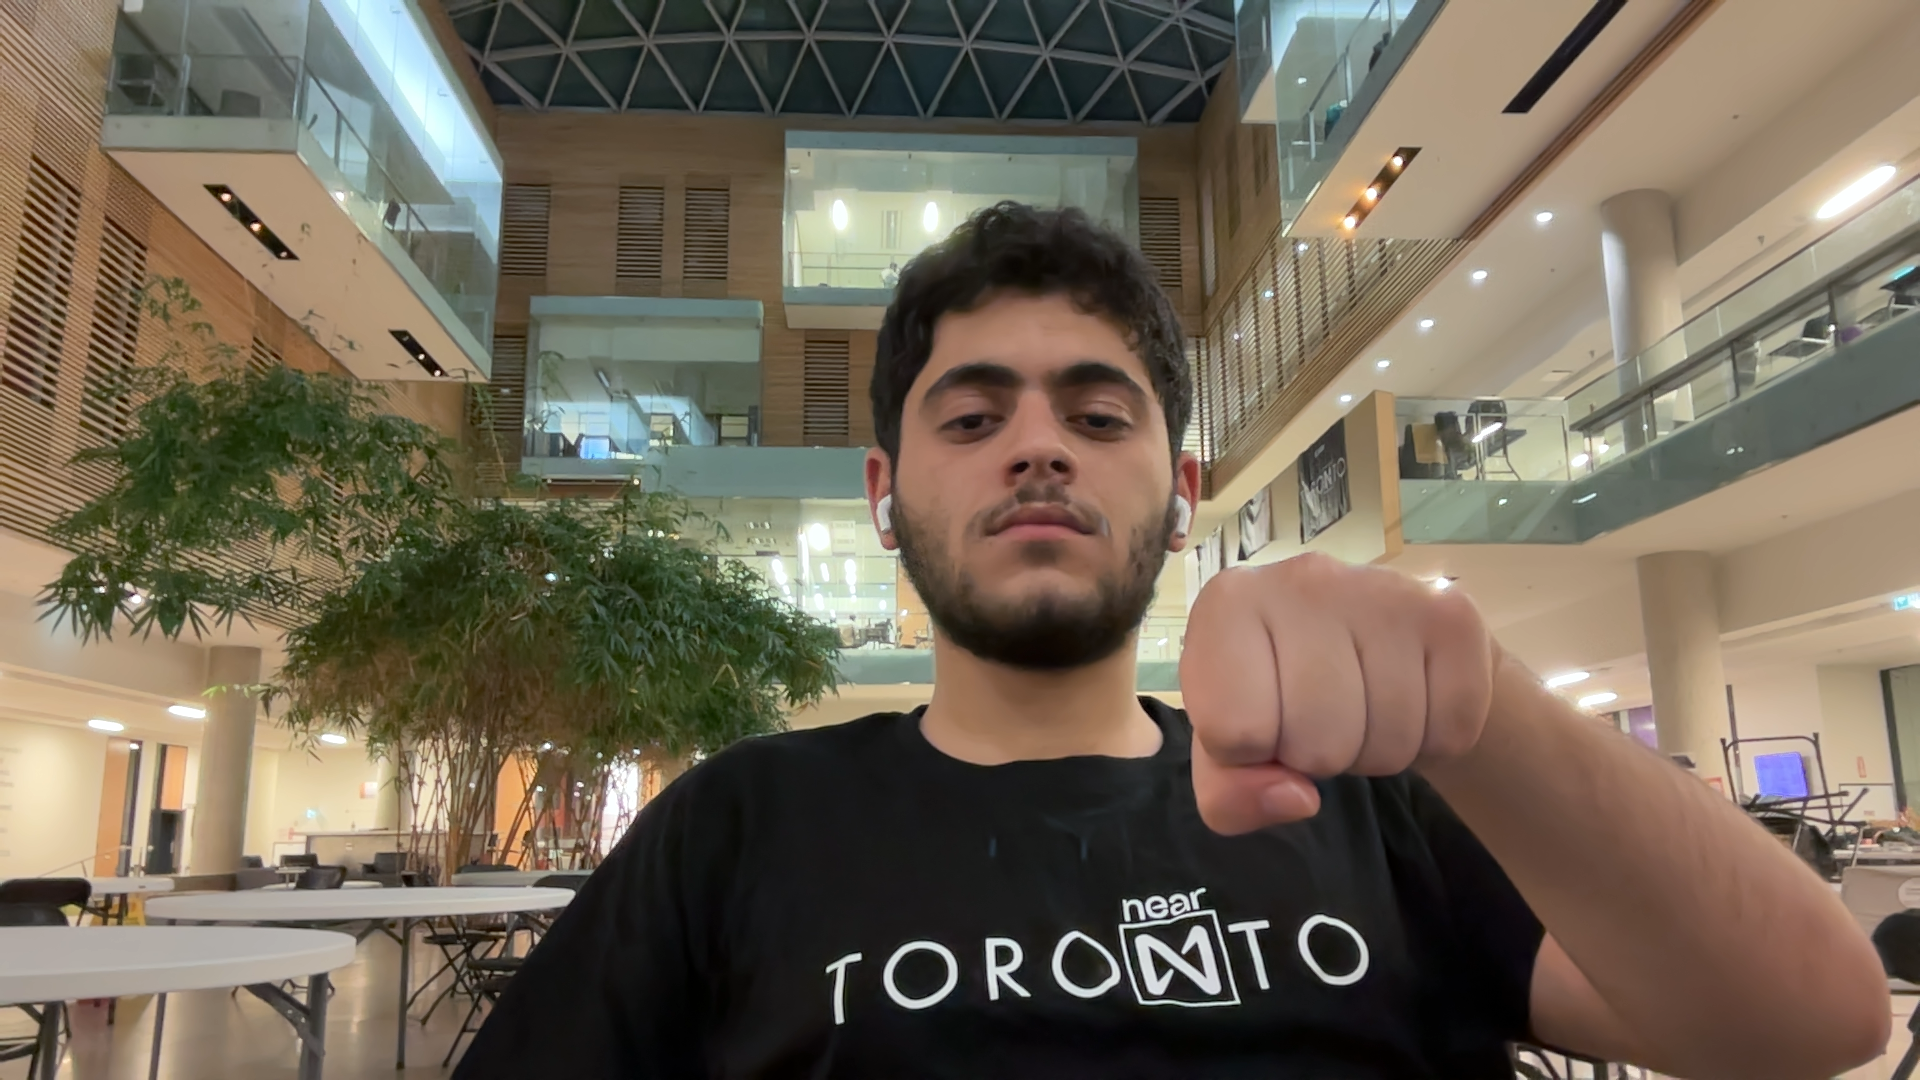yes: (1167, 521, 1531, 872)
